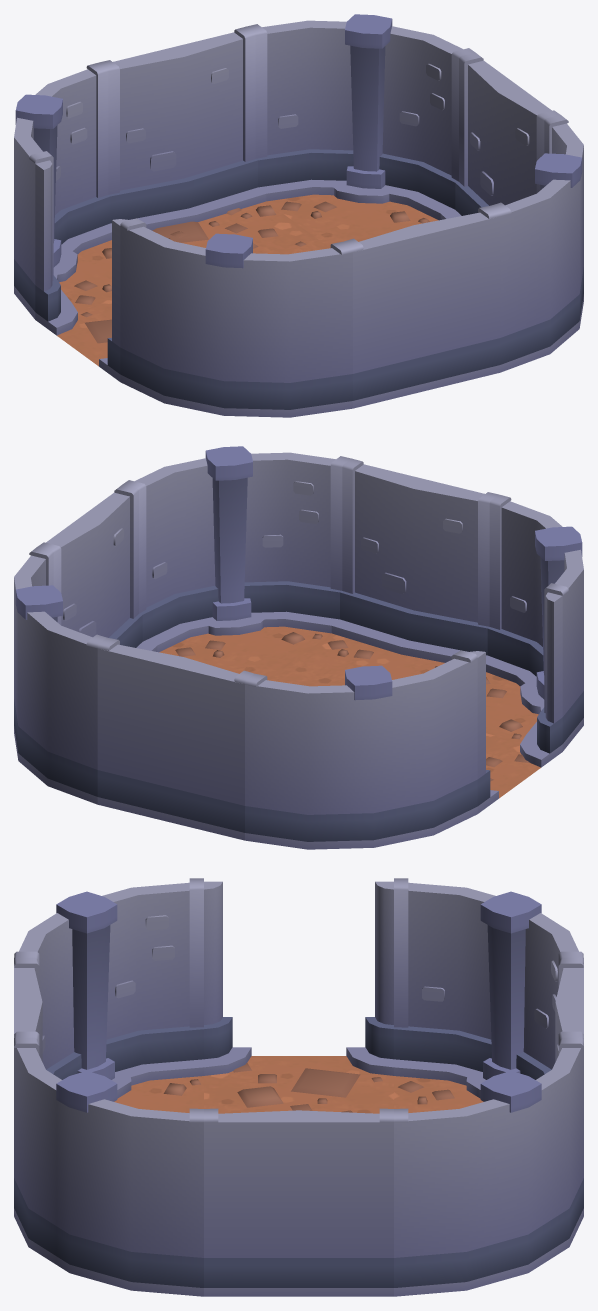
The model's file is small room 1 openings.glb.
The picture shows the model from 3 angles, top to bottom: view 1: azimuth 30°, elevation 25°; view 2: azimuth 150°, elevation 25°; view 3: azimuth 270°, elevation 25°; orthographic projection. The views are drawn at different scales.
Parts seen in each view (by area): view 1: room-small, template-wall.001, template-wall, template-wall.002; view 2: room-small, template-wall, template-wall.001, template-wall.002; view 3: room-small, template-wall.002, template-wall.001, template-wall.
Part boxes in pixels (bbox=[...]): room-small: bbox=[14, 14, 583, 417]; template-wall.001: bbox=[99, 26, 276, 240]; template-wall: bbox=[344, 205, 500, 407]; template-wall.002: bbox=[440, 52, 560, 219]; room-small: bbox=[14, 446, 583, 849]; template-wall: bbox=[328, 458, 498, 667]; template-wall.001: bbox=[97, 637, 253, 840]; template-wall.002: bbox=[37, 484, 157, 651]; room-small: bbox=[14, 878, 583, 1296]; template-wall.002: bbox=[204, 1108, 393, 1296]; template-wall.001: bbox=[555, 957, 583, 1061]; template-wall: bbox=[14, 957, 42, 1061].
Bounding box in the file's own units: 12 × 4.23 × 12.
Materials: 4 (4 with a texture image).
